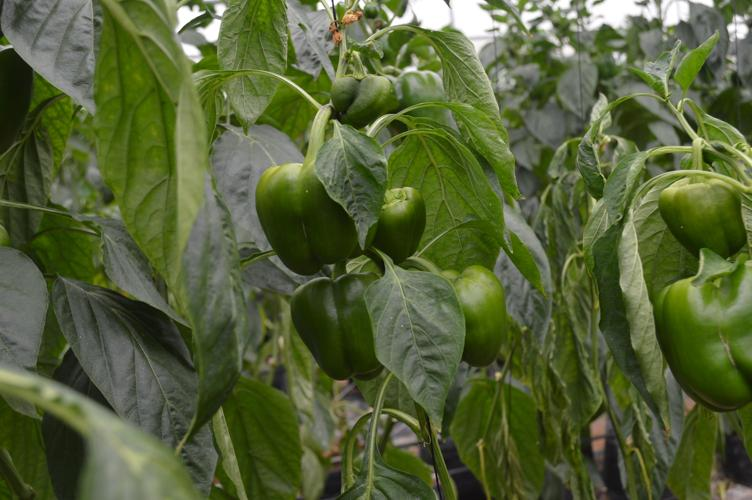BellPepper: (648, 266, 750, 416), (238, 149, 366, 253), (640, 163, 742, 267), (294, 279, 397, 379), (437, 263, 518, 365), (320, 58, 423, 133), (364, 183, 426, 258)
